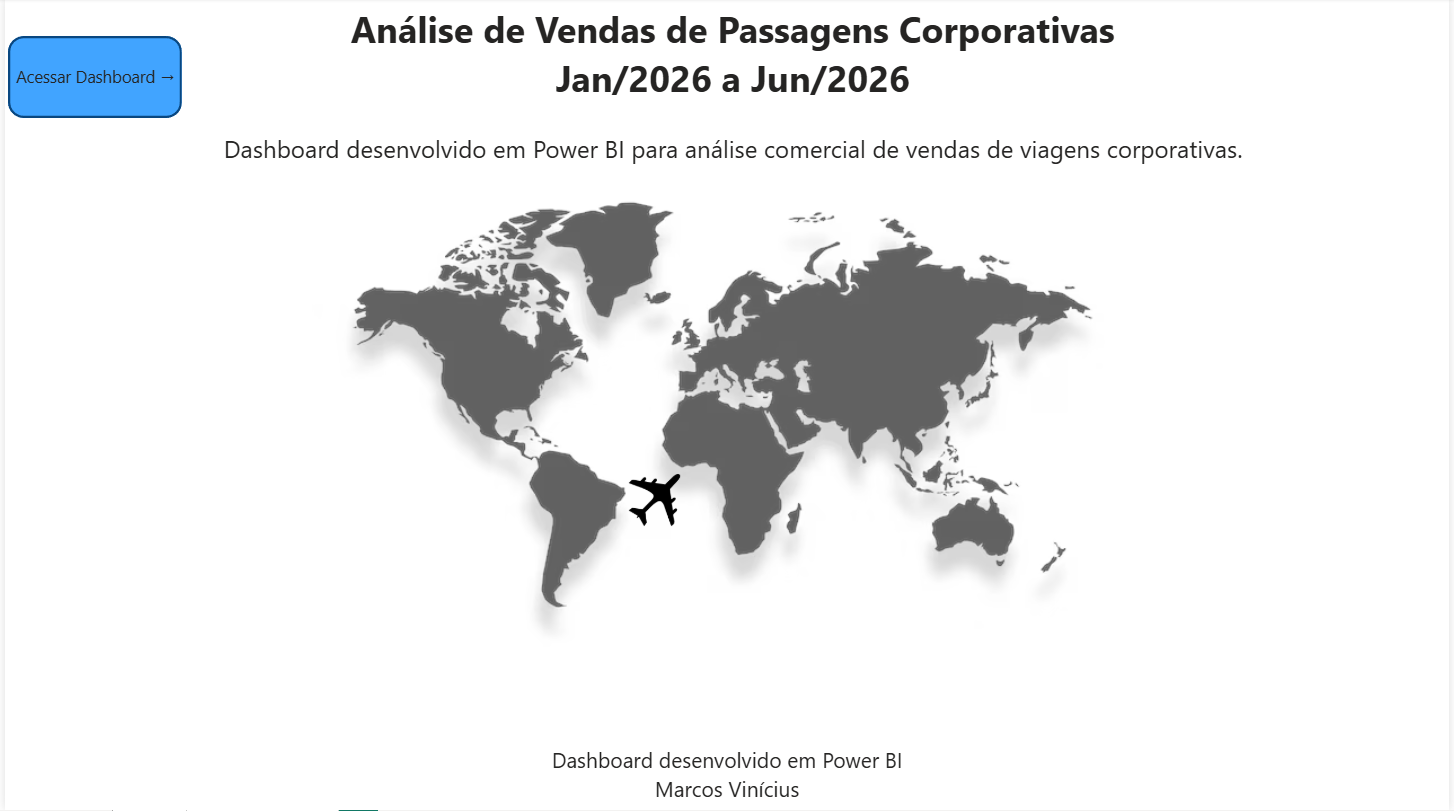

Layout of this report page (visuals, bound fields, positions):
{"tool":"powerbi","page":{"name":"Home","canvas":[1280,720],"ordinal":0},"visuals":[{"type":"textbox","box":[10.4,0,1269.2,96.9],"z":0},{"type":"textbox","box":[11.5,113.1,1268.1,39.2],"z":1000},{"type":"image","box":[527.5,413.5,99.1,61.5],"z":2000},{"type":"textbox","box":[0,641.4,1280.5,78.6],"z":3000},{"type":"actionButton","box":[2.7,33.7,154.3,72.7],"z":4000}]}

Visuals, with their boxes in screenshot pixels (x1, y1, x2, y2), scaled from the page's 1280x720 canvas onto the 1454x811 screenshot:
textbox: [12,0,1453,109]
textbox: [13,127,1453,172]
image: [599,466,712,535]
textbox: [0,722,1453,810]
actionButton: [3,38,178,120]
